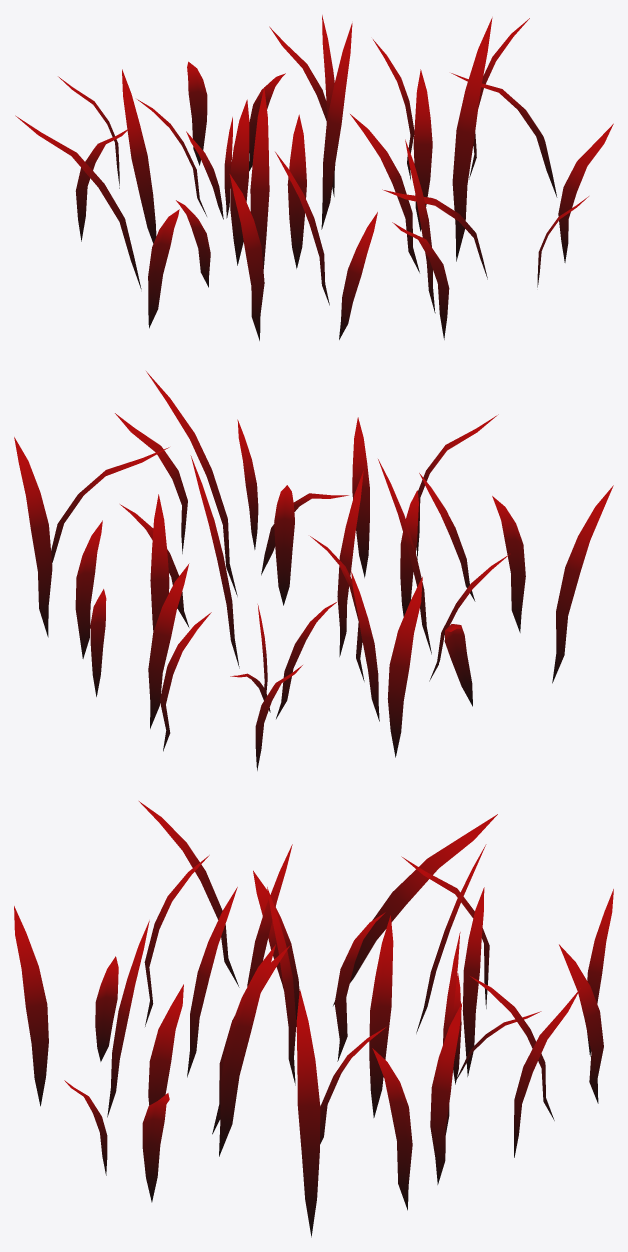
Rendered from HierbaSacadaAntes.fbx.
3 views of the same model, one above another, from view 1: azimuth 30°, elevation 25°; view 2: azimuth 150°, elevation 25°; view 3: azimuth 270°, elevation 25° (orthographic). The views are drawn at different scales.
Parts seen in each view (by area): view 1: Hierba; view 2: Hierba; view 3: Hierba.
Part boxes in pixels (x1,y1,x2,y2): Hierba: (15, 15, 613, 340); Hierba: (14, 371, 613, 770); Hierba: (14, 801, 613, 1237).
Bounding box in the file's own units: 2.92 × 1.29 × 2.82.
